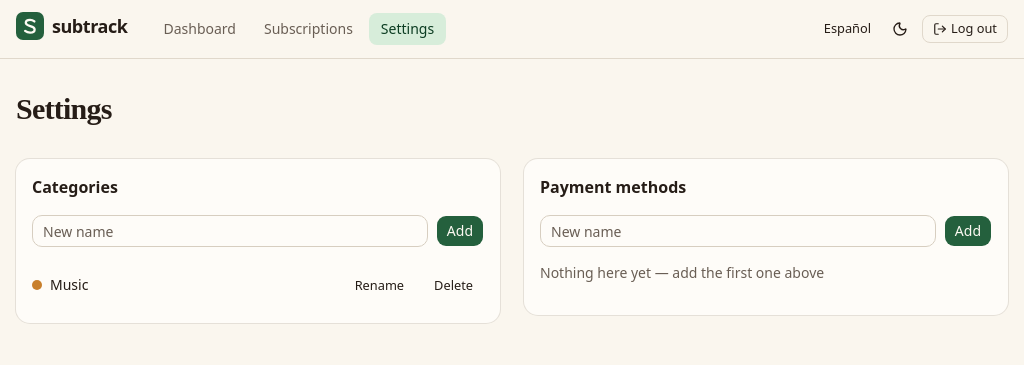
Test case: shows a duplicate name error
Type " Music " into the field labelled "New name" below "Categories" at {"x": 230, "y": 231}, box [32, 215, 428, 247]
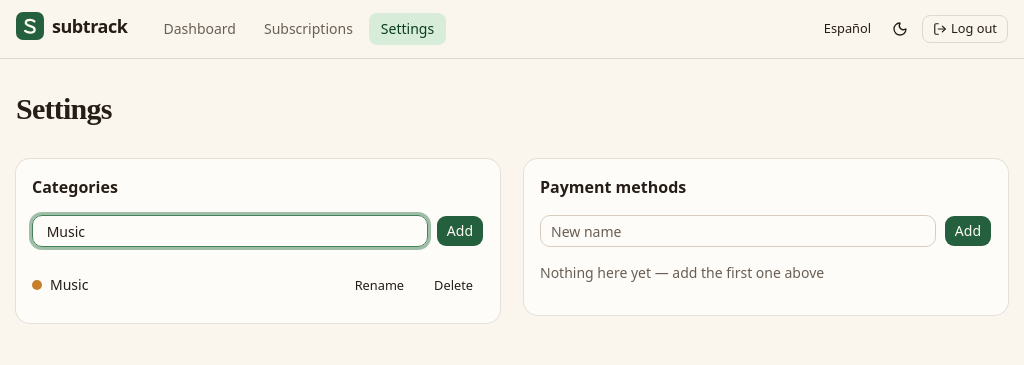
Click the 1st button "Add" at {"x": 460, "y": 231}, box [436, 215, 484, 247]
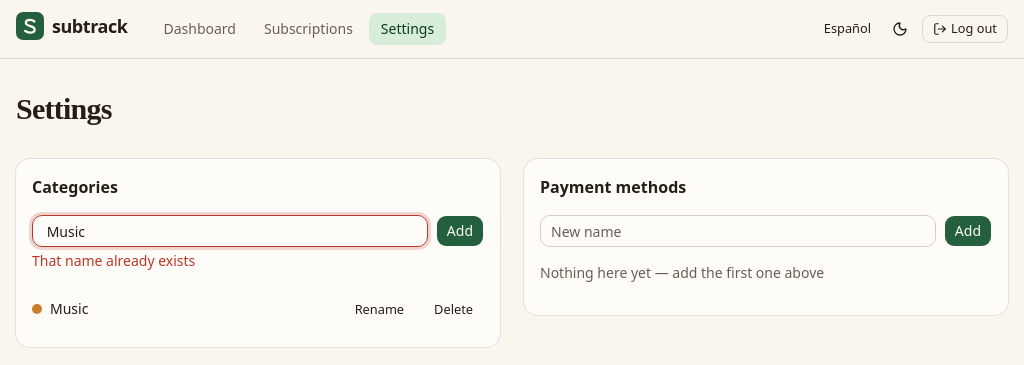
Check: the text "That name already exists" is shown, box [32, 251, 195, 270]
